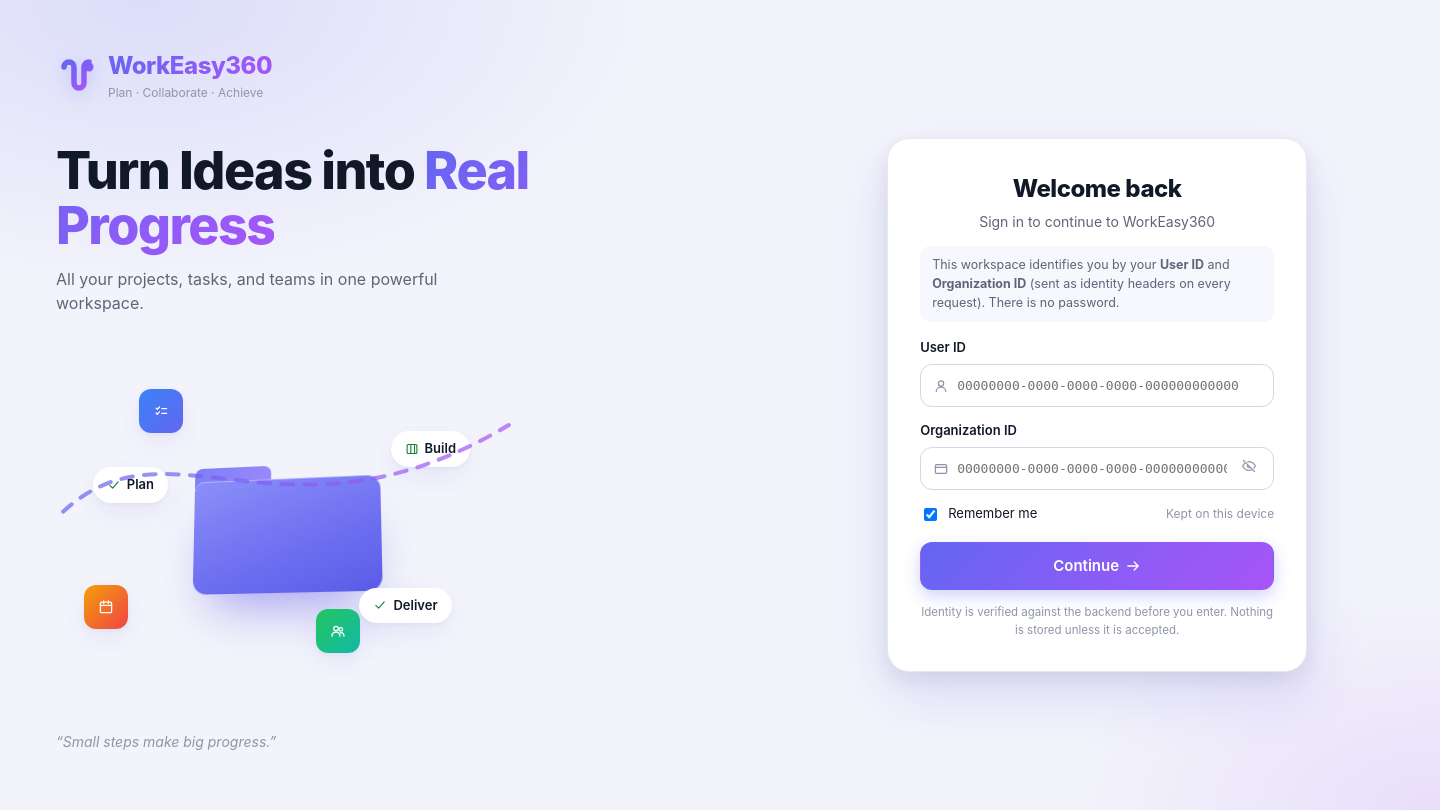
Test: SignInPage › does not keep an identity the backend rejects
Type "11111111-2222-4333-8444-555555555555" into the field labelled "User ID". click: (1110, 386)
box: x1=957 y1=365 x2=1263 y2=406
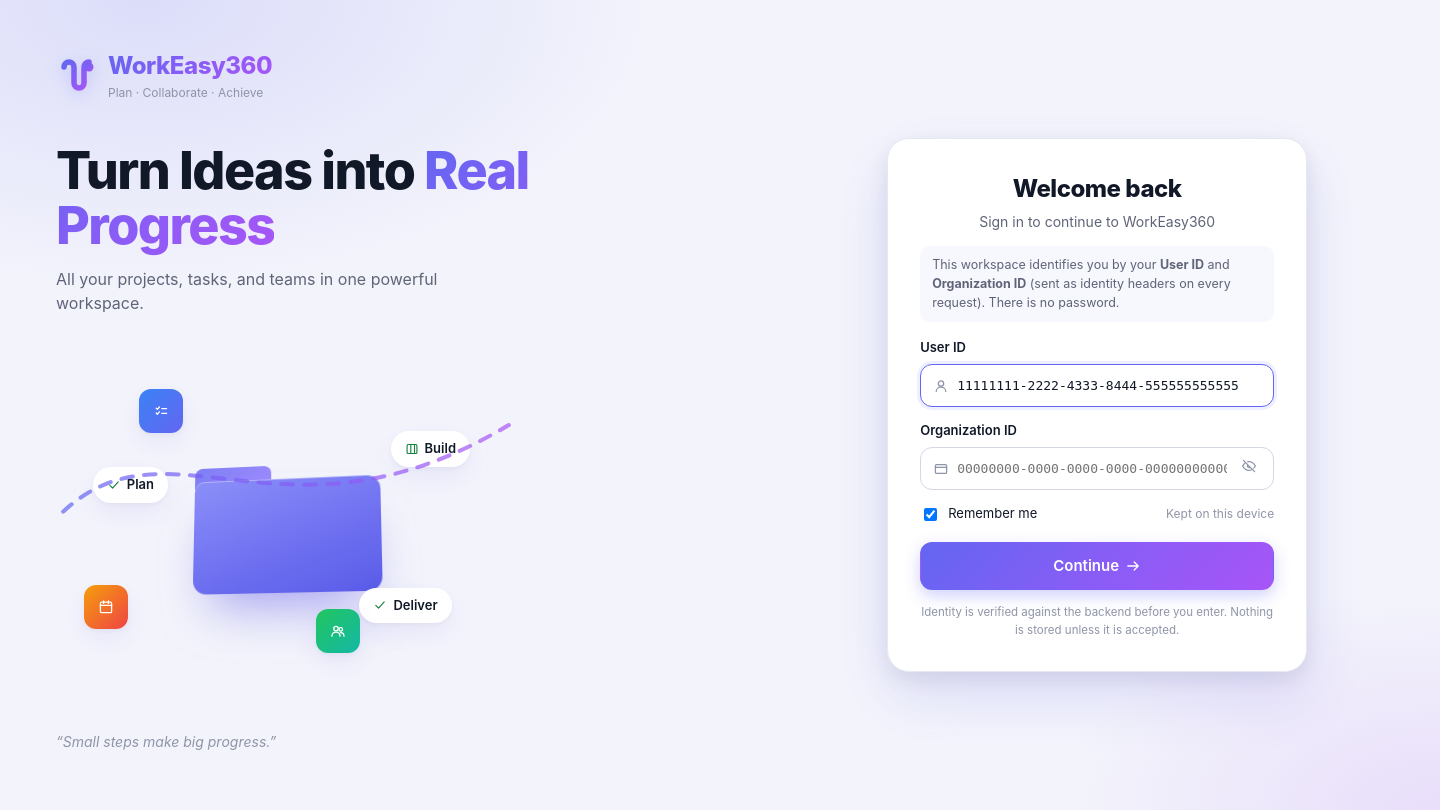
Type "99999999-2222-4333-8444-555555555555" into the field labelled "Organization ID". click: (1092, 469)
box: x1=957 y1=448 x2=1227 y2=489
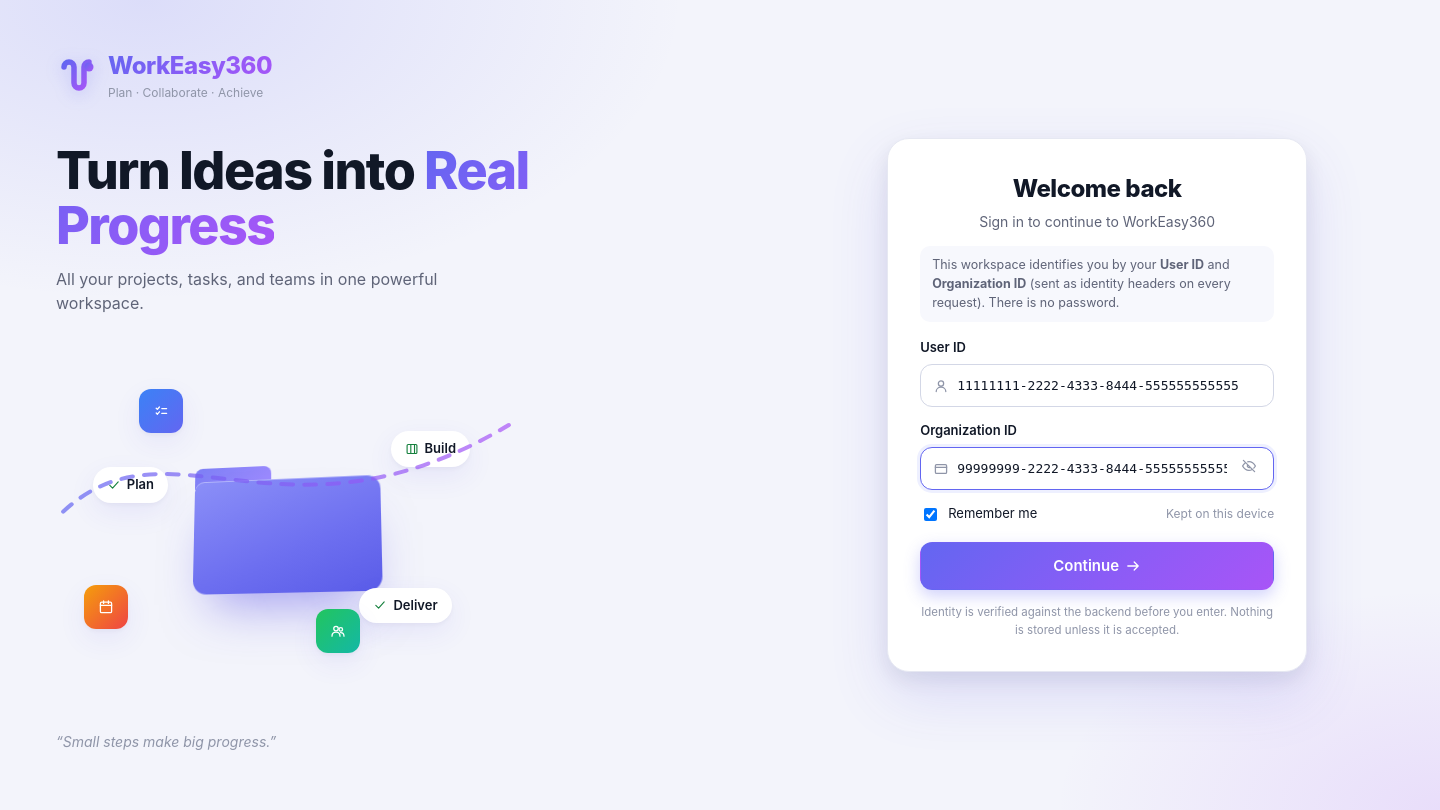
Click the button "Continue". click: (1097, 566)
box: x1=920 y1=542 x2=1274 y2=590
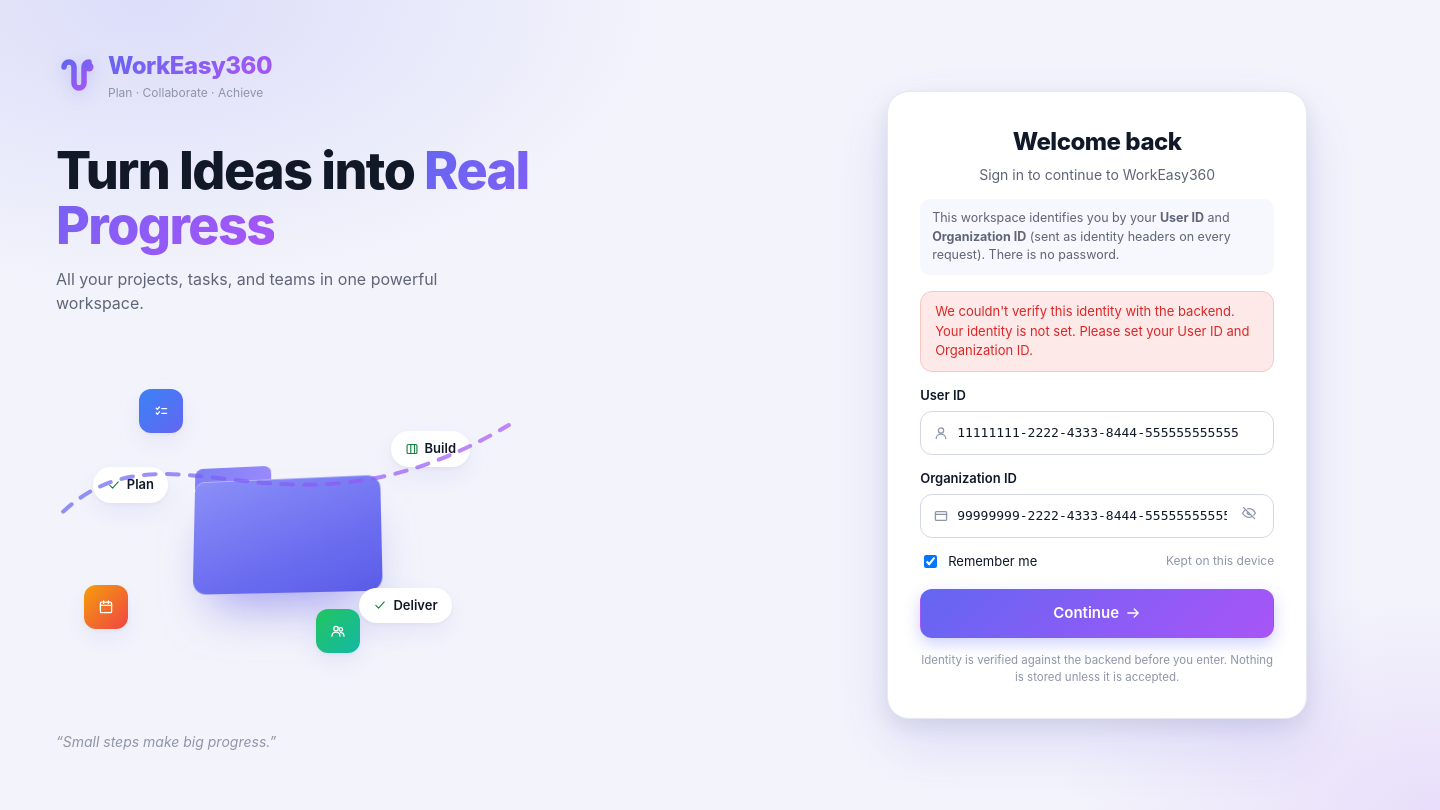
Check: the message shows "couldn't verify", box x1=935 y1=303 x2=1250 y2=358
